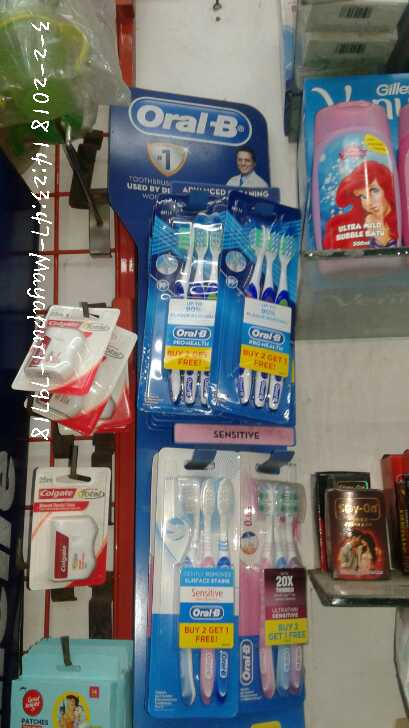oralb: (168, 474, 237, 704), (153, 214, 225, 412), (251, 471, 312, 694), (239, 223, 288, 406)
